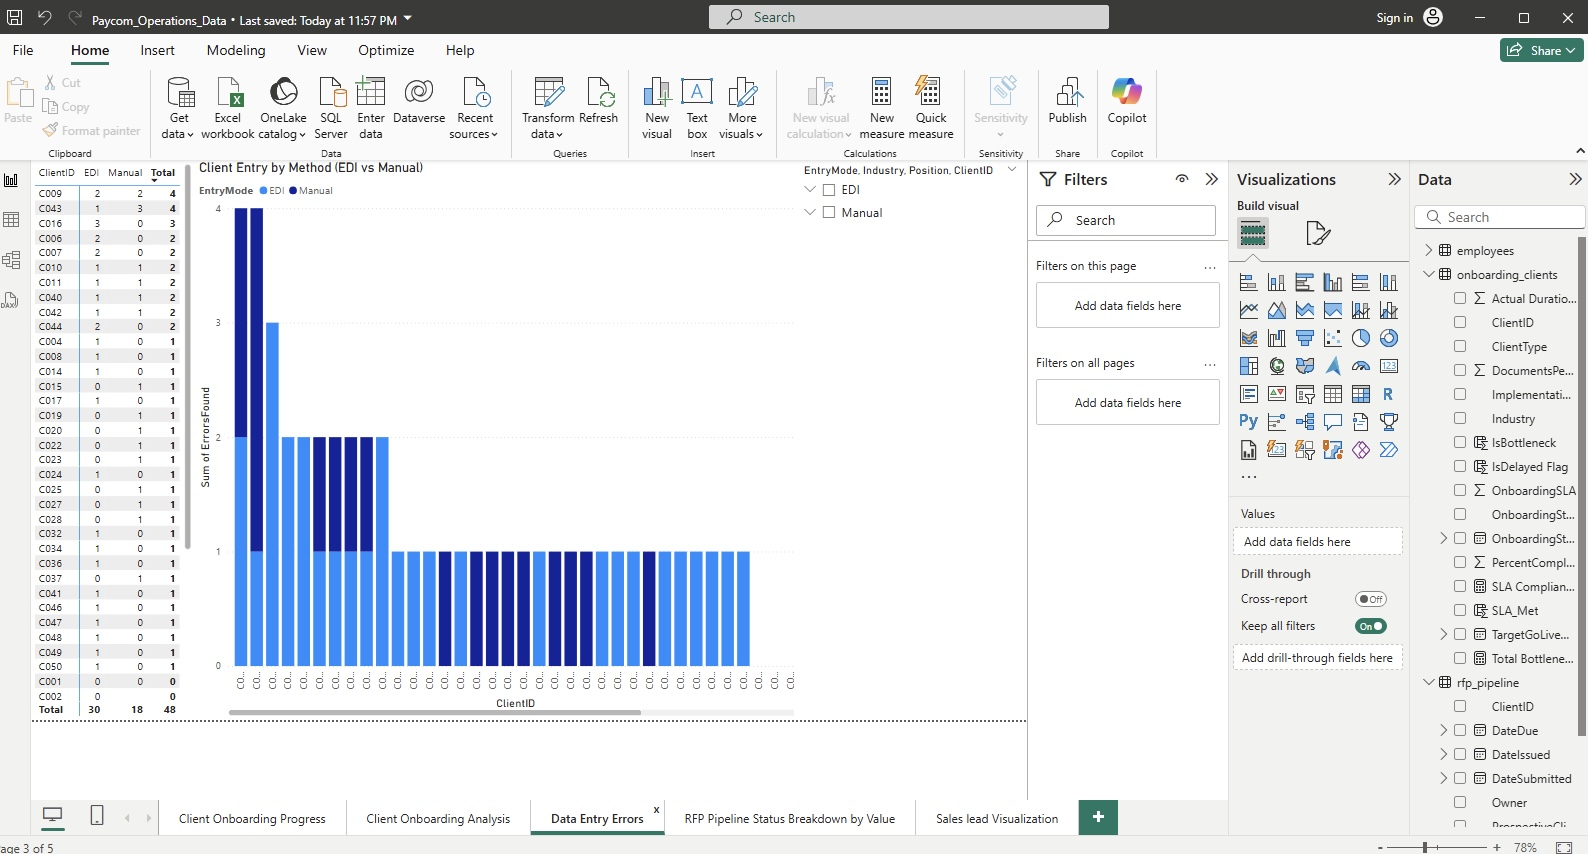

The dashboard page shown, as its layout file describes it:
{"tool":"powerbi","page":{"name":"Data Entry Errors","canvas":[1280,720],"ordinal":2},"visuals":[{"type":"columnChart","title":"Client Entry by Method (EDI vs Manual)","fields":{"Y":["Sum(employees.ErrorsFound)"],"Series":["employees.EntryMode"],"Category":["employees.ClientID"]},"box":[210.8,0,786.5,719.7],"z":0},{"type":"pivotTable","fields":{"Rows":["employees.ClientID"],"Values":["Sum(employees.ErrorsFound)"],"Columns":["employees.EntryMode"]},"box":[0,0,210.8,719.7],"z":1000},{"type":"slicer","fields":{"Values":["employees.EntryMode","onboarding_clients.Industry","employees.Position","employees.ClientID"]},"box":[980.6,0,299.4,719.7],"z":2000}]}

Visuals, with their boxes on the page's 1280x720 design canvas (x1, y1, x2, y2). These are canvas units, not pixel positions in the 1588x854 screenshot, which may show the page scaled, cropped or inside an application window:
"Client Entry by Method (EDI vs Manual)" columnChart: (left=211, top=0, right=997, bottom=720)
pivotTable - employees.ClientID x Sum(employees.ErrorsFound): (left=0, top=0, right=211, bottom=720)
slicer - employees.EntryMode x onboarding_clients.Industry: (left=981, top=0, right=1280, bottom=720)
